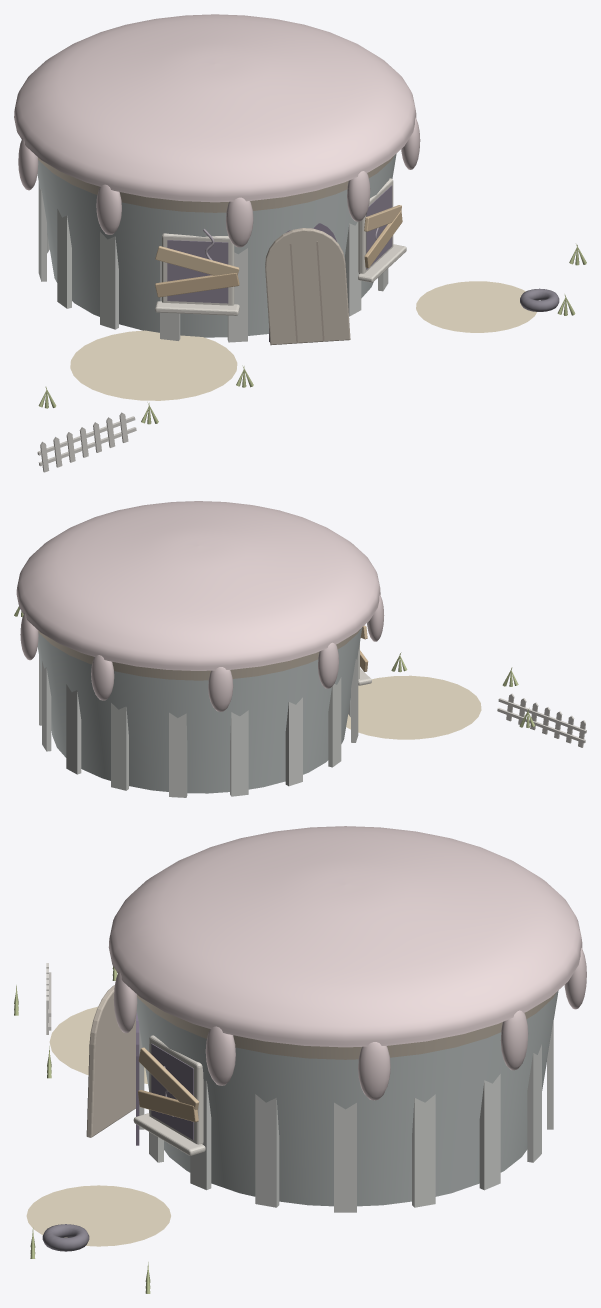
File: building_sweets_L01.glb
The picture shows the model from 3 angles, top to bottom: view 1: azimuth 30°, elevation 25°; view 2: azimuth 150°, elevation 25°; view 3: azimuth 270°, elevation 25°; orthographic projection. The views are drawn at different scales.
Parts seen in each view (by area): view 1: Body, sweets_L1; view 2: Body, sweets_L1; view 3: Body, sweets_L1.
Boxes of the visible parts, x1,y1,x2,y2 form: Body: (14,14,420,345); sweets_L1: (37,244,586,472); Body: (16,501,384,797); sweets_L1: (14,606,586,747); Body: (86,826,586,1212); sweets_L1: (14,963,170,1293).
Bounding box in the file's own units: 24.39 × 9.58 × 17.42.
